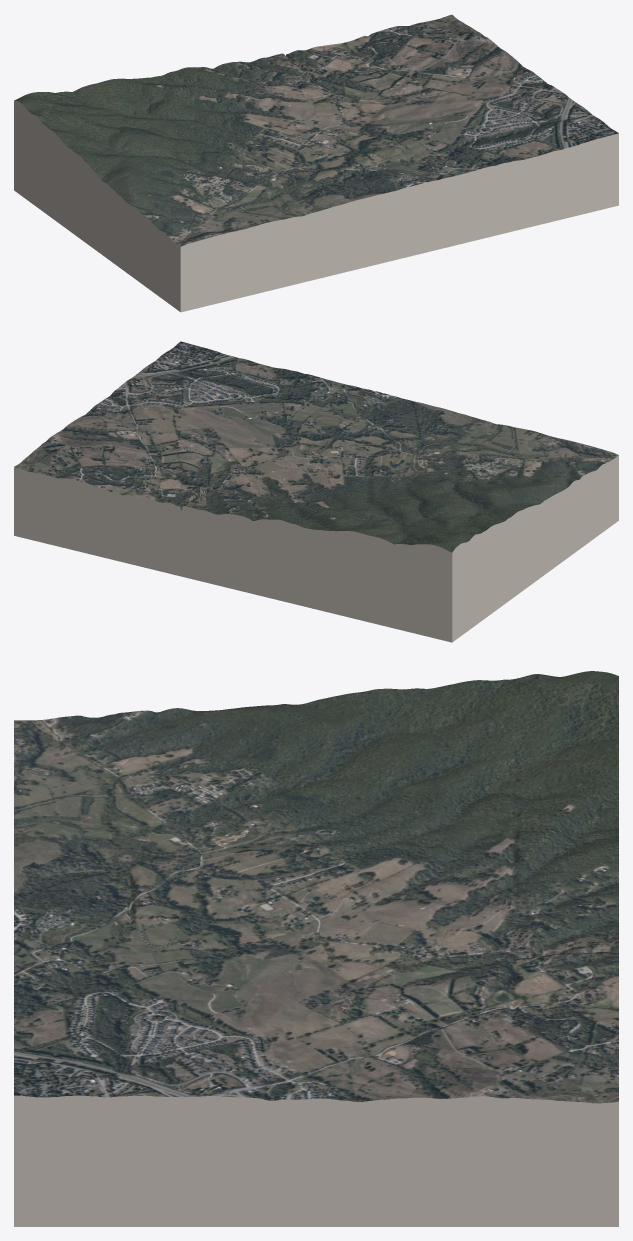
The picture shows the model from 3 angles, top to bottom: view 1: azimuth 30°, elevation 25°; view 2: azimuth 150°, elevation 25°; view 3: azimuth 270°, elevation 25°; orthographic projection. The views are drawn at different scales.
Visible parts, largest first — view 1: Final_MErged_DEM_TC_Parcel_LiDAR, side, side_2; view 2: Final_MErged_DEM_TC_Parcel_LiDAR, side_1, side_2; view 3: Final_MErged_DEM_TC_Parcel_LiDAR, side_3.
Boxes of the visible parts, x1,y1,x2,y2 form: Final_MErged_DEM_TC_Parcel_LiDAR: (14, 14, 618, 246); side: (180, 133, 618, 312); side_2: (14, 100, 180, 311); Final_MErged_DEM_TC_Parcel_LiDAR: (14, 341, 618, 552); side_1: (14, 467, 452, 642); side_2: (452, 455, 618, 642); Final_MErged_DEM_TC_Parcel_LiDAR: (14, 671, 618, 1103); side_3: (14, 1095, 618, 1226).
Bounding box in the file's own units: 100 × 20.37 × 65.92.
2 materials, 1 textured.
